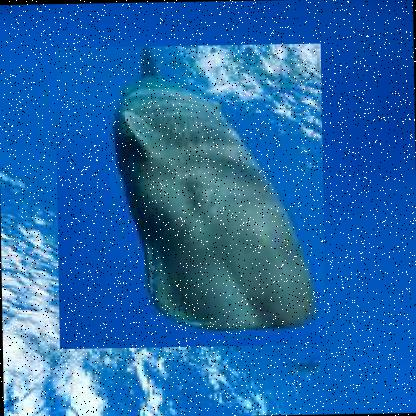sperm_whale: (54, 41, 326, 348)
